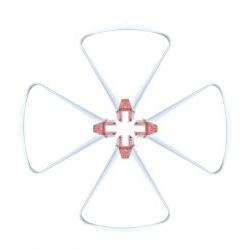drone: (20, 26, 231, 232)
